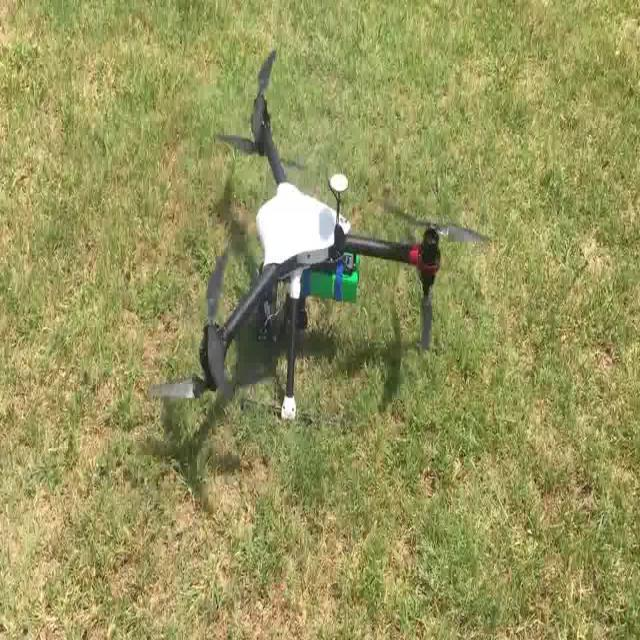drone: (148, 50, 496, 424)
